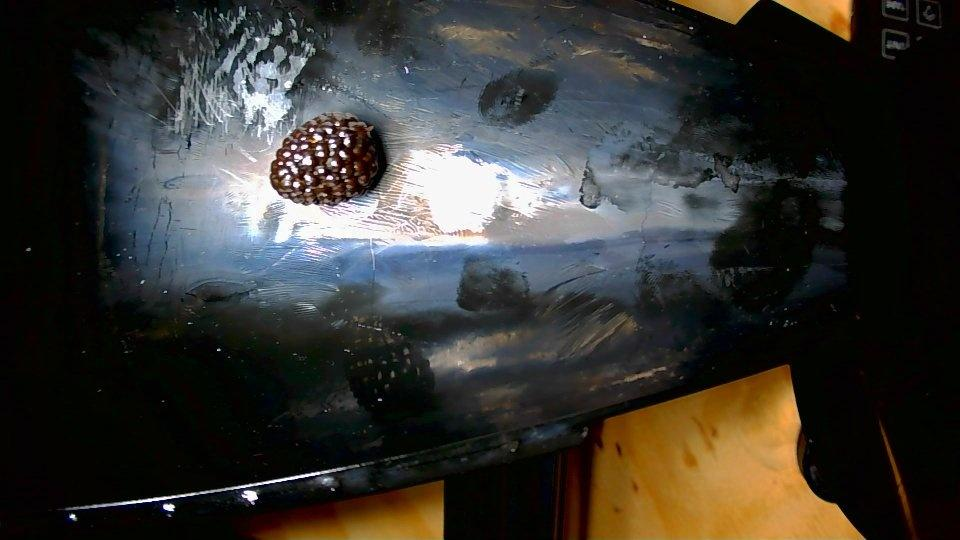berry: (270, 113, 380, 205)
